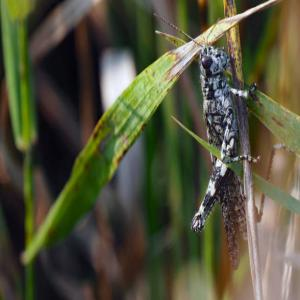locust: (170, 12, 257, 273)
